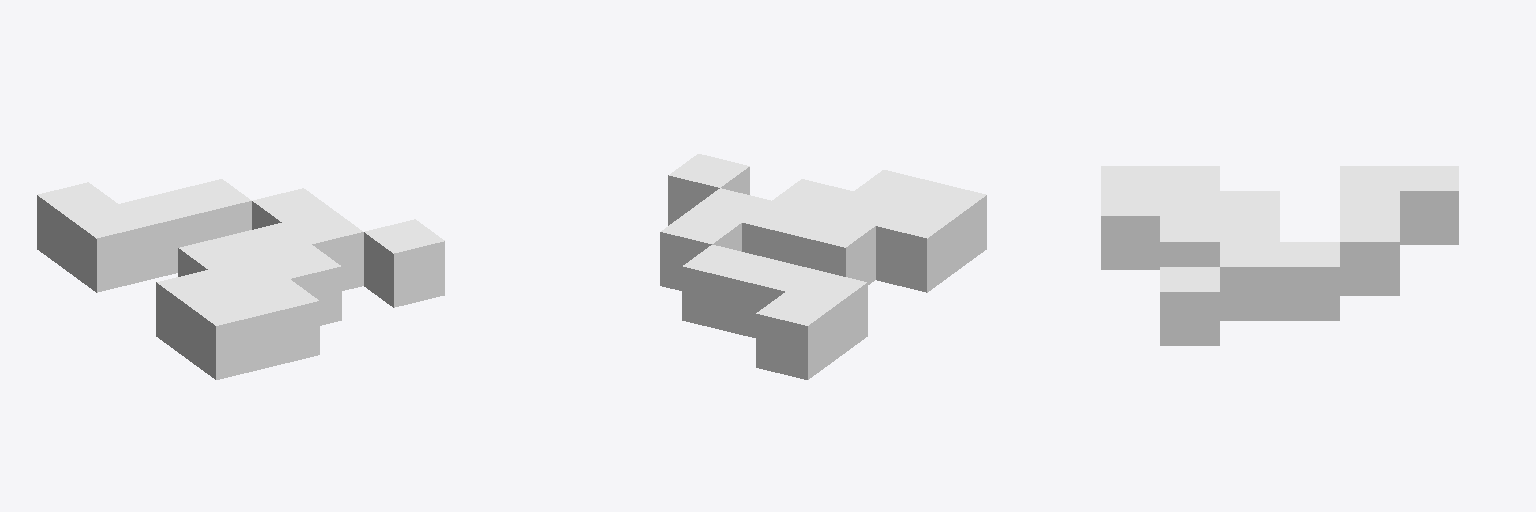
The model's file is Enemy2-1.obj.
The picture shows the model from 3 angles: view 1: azimuth 30°, elevation 25°; view 2: azimuth 150°, elevation 25°; view 3: azimuth 270°, elevation 25°; orthographic projection.
Visible parts, largest first — view 1: object 1; view 2: object 1; view 3: object 1.
Part boxes in pixels (x1,y1,x2,y2): object 1: (37, 179, 444, 379); object 1: (660, 154, 986, 379); object 1: (1101, 166, 1458, 345).
Size of the model in its own units: 0.5 by 0.1 by 0.6.